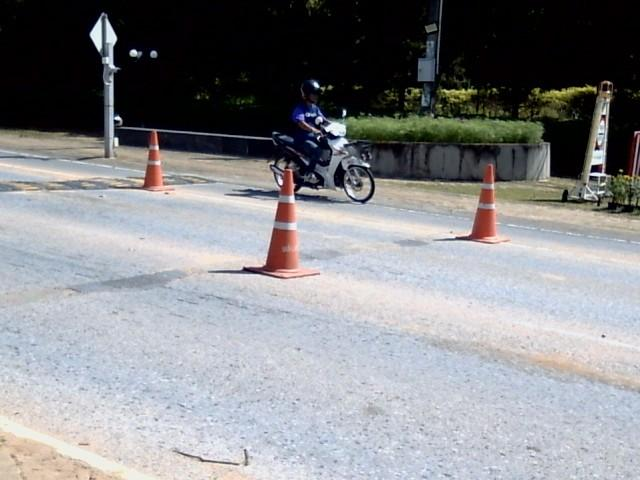helmet: (300, 78, 320, 100)
motor: (269, 122, 372, 202)
person: (292, 79, 330, 180)
